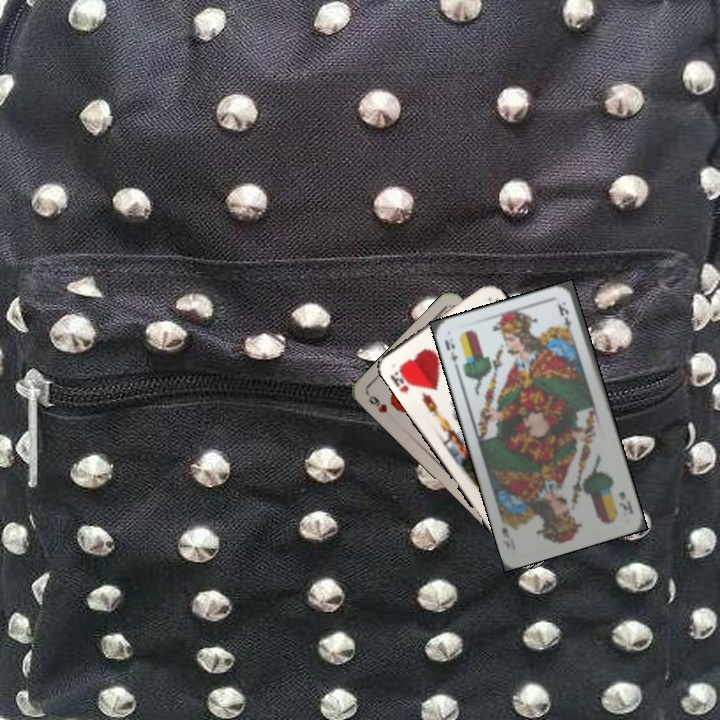EK: (440, 334, 461, 372), (615, 487, 636, 517)
H9: (364, 392, 390, 415)
HK: (386, 362, 416, 396)
